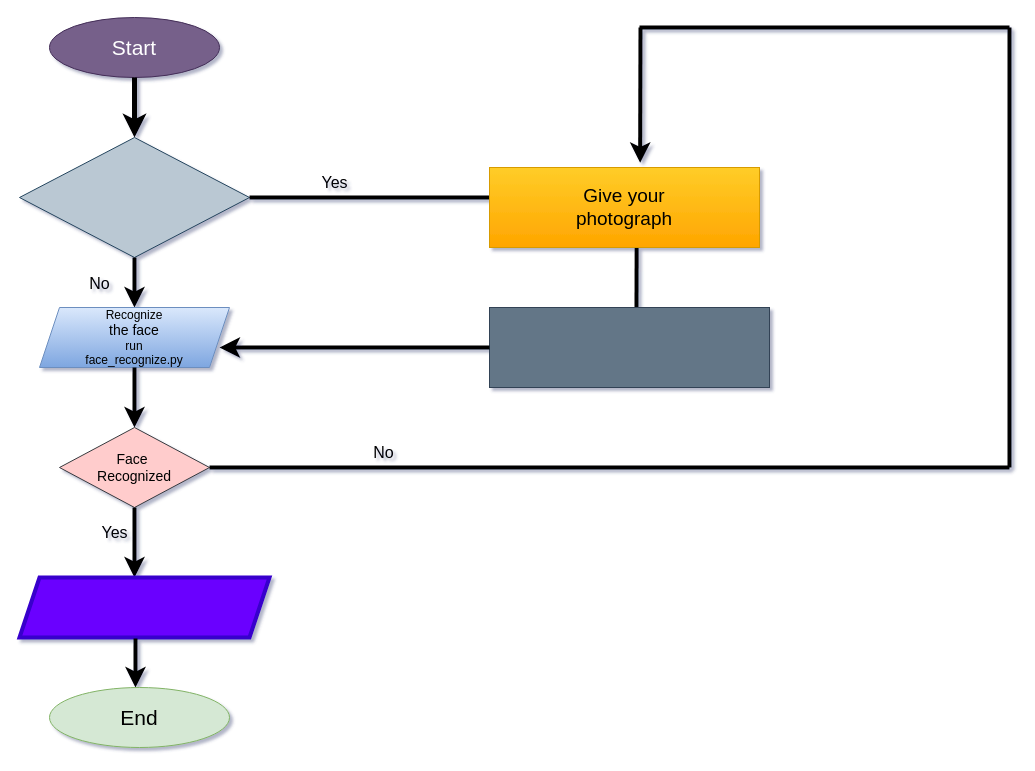
The diagram is 1035 pixels wide and 771 high, and some of its shapes have lost their labels. The centre of each missing label's shape, as x and y in pixels:
New User? run create_dataset.py: point (134, 197)
Store the face data in folder on your name: point (629, 347)
Stored in cav file with Registration Number & Date Time of Entry: point (144, 607)
